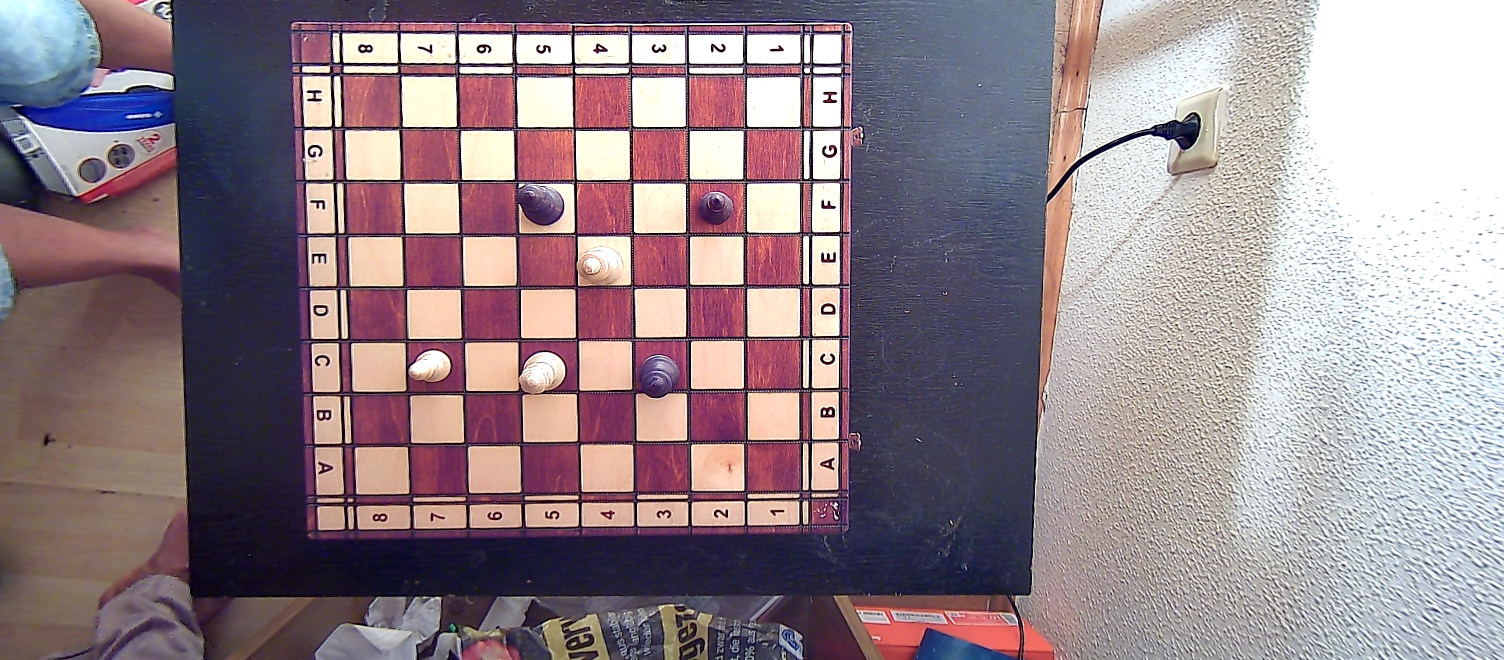black-bishop: (699, 187, 735, 224)
black-king: (635, 353, 680, 400)
black-queen: (515, 181, 566, 228)
white-bishop: (409, 347, 453, 385)
white-king: (574, 239, 624, 290)
white-queen: (516, 349, 568, 397)
